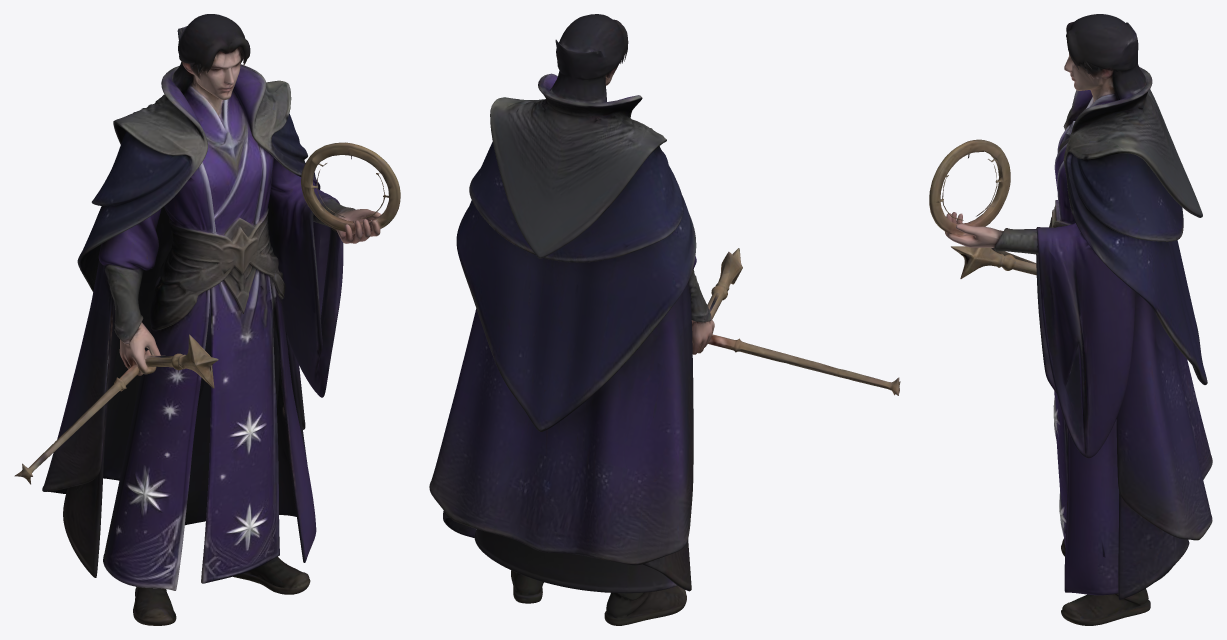
File: np_xing.glb
3 views of the same model, side by side, from view 1: azimuth 30°, elevation 25°; view 2: azimuth 150°, elevation 25°; view 3: azimuth 270°, elevation 25° (orthographic).
Parts seen in each view (by area): view 1: node_0; view 2: node_0; view 3: node_0.
Boxes of the visible parts, x1,y1,x2,y2 form: node_0: (14, 14, 400, 625); node_0: (429, 14, 900, 625); node_0: (929, 14, 1212, 625).
Bounding box in the file's own units: 0.7179 × 1.05 × 0.4755.
Materials: 1 (1 with a texture image).
